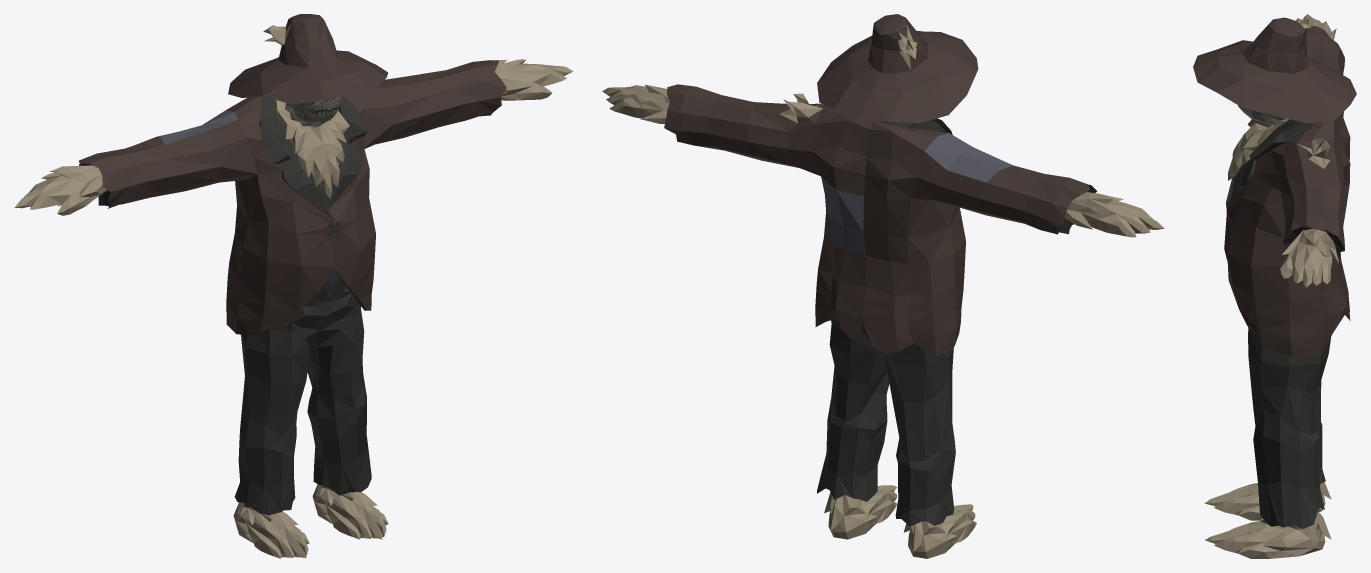
The model's file is Scarecrow.obj.
The picture shows the model from 3 angles, left to right: view 1: azimuth 30°, elevation 25°; view 2: azimuth 150°, elevation 25°; view 3: azimuth 270°, elevation 25°; orthographic projection.
Bounding box in the file's own units: 2.35 × 2.05 × 0.5997.
1 material, 1 textured.
